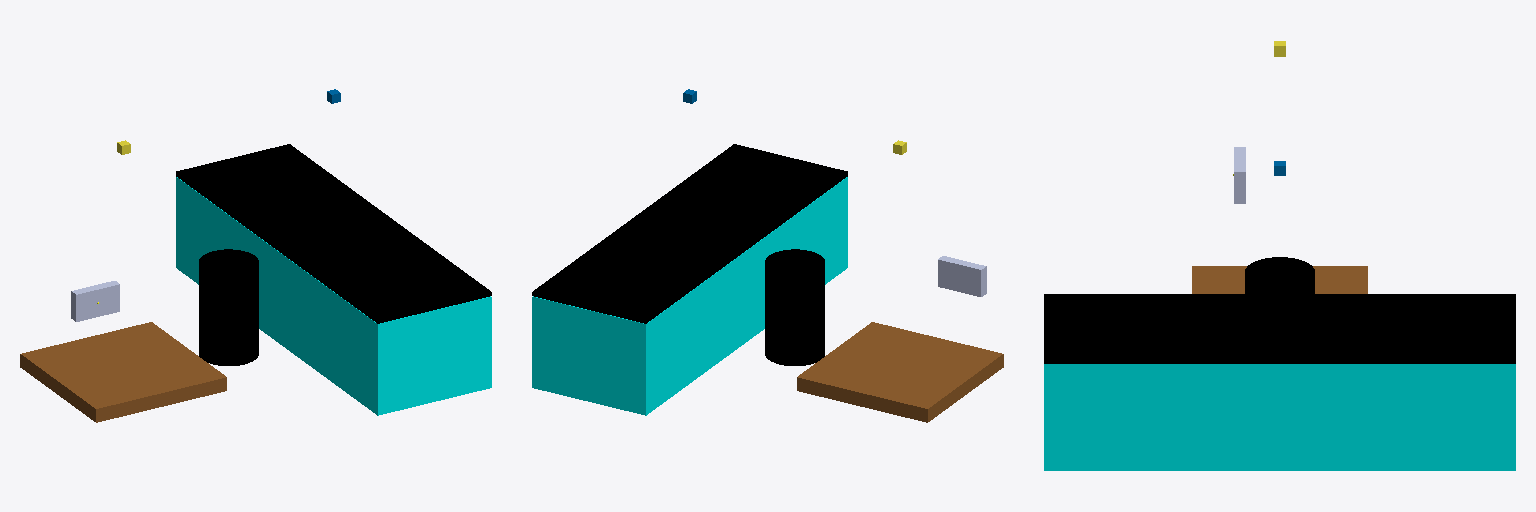
robot.urdf — fairino20_v6_robot:
<?xml version="1.0" encoding="utf-8"?>
<!-- This URDF was automatically created by SolidWorks to URDF Exporter! Originally created by Stephen Brawner (brawner@gmail.com) 
     Commit Version: 1.5.1-0-g916b5db  Build Version: 1.5.7152.31018
     For more information, please see http://wiki.ros.org/sw_urdf_exporter -->
<robot
  name="fairino20_v6_robot">
    <link name="world">
  </link>

    <link name="cylinder">
        <visual>
            <geometry>
                <cylinder radius="0.3" length="1.0"/>
            </geometry>
            <material name="black">
                <color rgba="0.0 0.0 0.0 1.0"/>
            </material>
        </visual>
        <collision>
            <geometry>
                <cylinder radius="0.3" length="1.0"/>
            </geometry>
        </collision>
        <inertial>
            <mass value="5.0"/>
            <origin xyz="0 0 0"/>
            <inertia ixx="0.1" ixy="0.0" ixz="0.0" iyy="0.1" iyz="0.0" izz="0.1"/>
        </inertial>
    </link>

    <joint name="world_to_cylinder" type="fixed">
        <parent link="world"/>
        <child link="cylinder"/>
        <origin xyz="0 0 0.5"/>
    </joint>


  <joint
    name="world_joint"
    type="fixed">
    <origin
      xyz="0 0 0.53"
      rpy="0 0 0" />
    <parent
      link="cylinder" />
    <child
      link="base_link" />
  </joint>

  <link
    name="base_link">
    <inertial>
      <origin
        xyz="-2.1681E-05 -6.0648E-05 0.043457"
        rpy="0 0 0" />
      <mass
        value="9.2502" />
      <inertia
        ixx="0.034499"
        ixy="1.6641E-05"
        ixz="-7.478E-06"
        iyy="0.034518"
        iyz="-2.0849E-05"
        izz="0.05496" />
    </inertial>
    <visual>
      <origin
        xyz="0 0 0"
        rpy="0 0 0" />
      <geometry>
        <mesh
          filename="file:///home/cyberai/ros_ws_new/src-20250225T070255Z-001/src/fr5v6_gazebo/meshes/fairino20_v6/base_link.STL" />
      </geometry>
      <material
        name="">
        <color
          rgba="0.89804 0.91765 0.92941 1" />
      </material>
    </visual>
    <collision>
      <origin
        xyz="0 0 0"
        rpy="0 0 0" />
      <geometry>
        <mesh
          filename="file:///home/cyberai/ros_ws_new/src-20250225T070255Z-001/src/fr5v6_gazebo/meshes/fairino20_v6/base_link.STL" />
      </geometry>
    </collision>
  </link>
  <link
    name="shoulder_link">
    <inertial>
      <origin
        xyz="3.9254E-07 -0.010323 0.21287"
        rpy="0 0 0" />
      <mass
        value="19.459" />
      <inertia
        ixx="0.1323"
        ixy="1.0103E-06"
        ixz="-5.944E-07"
        iyy="0.12371"
        iyz="0.00042374"
        izz="0.10228" />
    </inertial>
    <visual>
      <origin
        xyz="0 0 0"
        rpy="0 0 0" />
      <geometry>
        <mesh
          filename="file:///home/cyberai/ros_ws_new/src-20250225T070255Z-001/src/fr5v6_gazebo/meshes/fairino20_v6/shoulder_link.STL" />
      </geometry>
      <material
        name="">
        <color
          rgba="0.89804 0.91765 0.92941 1" />
      </material>
    </visual>
    <collision>
      <origin
        xyz="0 0 0"
        rpy="0 0 0" />
      <geometry>
        <mesh
          filename="file:///home/cyberai/ros_ws_new/src-20250225T070255Z-001/src/fr5v6_gazebo/meshes/fairino20_v6/shoulder_link.STL" />
      </geometry>
    </collision>
  </link>
  <joint
    name="j1"
    type="revolute">
    <origin
      xyz="0 0 0"
      rpy="0 0 0" />
    <parent
      link="base_link" />
    <child
      link="shoulder_link" />
    <axis
      xyz="0 0 1" />
    <limit
      lower="-3.0543"
      upper="3.0543"
      effort="150"
      velocity="3.15" />
    <calibration
      rising="0"
      falling="0" />
    <dynamics
      damping="0"
      friction="0" />
    <safety_controller
      soft_upper_limit="3.0543261"
      soft_lower_limit="-3.0543261"
      k_position="100.0"
      k_velocity="40.0" />
  </joint>
  <link
    name="upperarm_link">
    <inertial>
      <origin
        xyz="-0.42217 4.2066E-06 0.22678"
        rpy="0 0 0" />
      <mass
        value="66.724" />
      <inertia
        ixx="0.2685"
        ixy="4.4967E-05"
        ixz="-0.0061696"
        iyy="8.9785"
        iyz="-8.1844E-06"
        izz="8.9379" />
    </inertial>
    <visual>
      <origin
        xyz="0 0 0"
        rpy="0 0 0" />
      <geometry>
        <mesh
          filename="file:///home/cyberai/ros_ws_new/src-20250225T070255Z-001/src/fr5v6_gazebo/meshes/fairino20_v6/upperarm_link.STL" />
      </geometry>
      <material
        name="">
        <color
          rgba="0.89804 0.91765 0.92941 1" />
      </material>
    </visual>
    <collision>
      <origin
        xyz="0 0 0"
        rpy="0 0 0" />
      <geometry>
        <mesh
          filename="file:///home/cyberai/ros_ws_new/src-20250225T070255Z-001/src/fr5v6_gazebo/meshes/fairino20_v6/upperarm_link.STL" />
      </geometry>
    </collision>
  </link>
  <joint
    name="j2"
    type="revolute">
    <origin
      xyz="0 0 0.215"
      rpy="1.5708 0 0" />
    <parent
      link="shoulder_link" />
    <child
      link="upperarm_link" />
    <axis
      xyz="0 0 1" />
    <limit
      lower="-4.6251"
      upper="1.4835"
      effort="150"
      velocity="3.15" />
    <calibration
      rising="0"
      falling="0" />
    <dynamics
      damping="0"
      friction="0" />
    <safety_controller
      soft_upper_limit="3.0543261"
      soft_lower_limit="-3.0543261"
      k_position="100.0"
      k_velocity="40.0" />
  </joint>
  <link
    name="forearm_link">
    <inertial>
      <origin
        xyz="-0.32102 1.1013E-06 0.036086"
        rpy="0 0 0" />
      <mass
        value="27.942" />
      <inertia
        ixx="0.067382"
        ixy="3.8412E-06"
        ixz="-0.060027"
        iyy="1.8359"
        iyz="1.1904E-06"
        izz="1.8258" />
    </inertial>
    <visual>
      <origin
        xyz="0 0 0"
        rpy="0 0 0" />
      <geometry>
        <mesh
          filename="file:///home/cyberai/ros_ws_new/src-20250225T070255Z-001/src/fr5v6_gazebo/meshes/fairino20_v6/forearm_link.STL" />
      </geometry>
      <material
        name="">
        <color
          rgba="0.89804 0.91765 0.92941 1" />
      </material>
    </visual>
    <collision>
      <origin
        xyz="0 0 0"
        rpy="0 0 0" />
      <geometry>
        <mesh
          filename="file:///home/cyberai/ros_ws_new/src-20250225T070255Z-001/src/fr5v6_gazebo/meshes/fairino20_v6/forearm_link.STL" />
      </geometry>
    </collision>
  </link>
  <joint
    name="j3"
    type="revolute">
    <origin
      xyz="-1 0 0"
      rpy="0 0 0" />
    <parent
      link="upperarm_link" />
    <child
      link="forearm_link" />
    <axis
      xyz="0 0 1" />
    <limit
      lower="-2.8274"
      upper="2.8274"
      effort="150"
      velocity="3.15" />
    <calibration
      rising="0"
      falling="0" />
    <dynamics
      damping="0"
      friction="0" />
    <safety_controller
      soft_upper_limit="3.0543261"
      soft_lower_limit="-3.0543261"
      k_position="100.0"
      k_velocity="40.0" />
  </joint>
  <link
    name="wrist1_link">
    <inertial>
      <origin
        xyz="-1.4575E-06 -0.0065782 0.16163"
        rpy="0 0 0" />
      <mass
        value="4.0932" />
      <inertia
        ixx="0.0093111"
        ixy="7.0183E-08"
        ixz="-1.2872E-07"
        iyy="0.0077482"
        iyz="0.00014273"
        izz="0.0089925" />
    </inertial>
    <visual>
      <origin
        xyz="0 0 0"
        rpy="0 0 0" />
      <geometry>
        <mesh
          filename="file:///home/cyberai/ros_ws_new/src-20250225T070255Z-001/src/fr5v6_gazebo/meshes/fairino20_v6/wrist1_link.STL" />
      </geometry>
      <material
        name="">
        <color
          rgba="0.89804 0.91765 0.92941 1" />
      </material>
    </visual>
    <collision>
      <origin
        xyz="0 0 0"
        rpy="0 0 0" />
      <geometry>
        <mesh
          filename="file:///home/cyberai/ros_ws_new/src-20250225T070255Z-001/src/fr5v6_gazebo/meshes/fairino20_v6/wrist1_link.STL" />
      </geometry>
    </collision>
  </link>
  <joint
    name="j4"
    type="revolute">
    <origin
      xyz="-0.716 0 0"
      rpy="0 0 0" />
    <parent
      link="forearm_link" />
    <child
      link="wrist1_link" />
    <axis
      xyz="0 0 1" />
    <limit
      lower="-4.6251"
      upper="1.4835"
      effort="28"
      velocity="3.2" />
    <calibration
      rising="0"
      falling="0" />
    <dynamics
      damping="0"
      friction="0" />
    <safety_controller
      soft_upper_limit="3.0543261"
      soft_lower_limit="-3.0543261"
      k_position="100.0"
      k_velocity="40.0" />
  </joint>
  <link
    name="wrist2_link">
    <inertial>
      <origin
        xyz="1.1445E-07 0.0065785 0.13363"
        rpy="0 0 0" />
      <mass
        value="4.0931" />
      <inertia
        ixx="0.0093111"
        ixy="3.2335E-09"
        ixz="-2.7278E-08"
        iyy="0.0077479"
        iyz="-0.00014267"
        izz="0.0089922" />
    </inertial>
    <visual>
      <origin
        xyz="0 0 0"
        rpy="0 0 0" />
      <geometry>
        <mesh
          filename="file:///home/cyberai/ros_ws_new/src-20250225T070255Z-001/src/fr5v6_gazebo/meshes/fairino20_v6/wrist2_link.STL" />
      </geometry>
      <material
        name="">
        <color
          rgba="0.89804 0.91765 0.92941 1" />
      </material>
    </visual>
    <collision>
      <origin
        xyz="0 0 0"
        rpy="0 0 0" />
      <geometry>
        <mesh
          filename="file:///home/cyberai/ros_ws_new/src-20250225T070255Z-001/src/fr5v6_gazebo/meshes/fairino20_v6/wrist2_link.STL" />
      </geometry>
    </collision>
  </link>
  <joint
    name="j5"
    type="revolute">
    <origin
      xyz="0 0 0.16601"
      rpy="1.5708 0 0" />
    <parent
      link="wrist1_link" />
    <child
      link="wrist2_link" />
    <axis
      xyz="0 0 1" />
    <limit
      lower="-3.0543"
      upper="3.0543"
      effort="28"
      velocity="3.2" />
    <calibration
      rising="0"
      falling="0" />
    <dynamics
      damping="0"
      friction="0" />
    <safety_controller
      soft_upper_limit="3.0543261"
      soft_lower_limit="-3.0543261"
      k_position="100.0"
      k_velocity="40.0" />
  </joint>
  <link
    name="wrist3_link">
    <inertial>
      <origin
        xyz="-0.00011258 -0.00010438 0.095779"
        rpy="0 0 0" />
      <mass
        value="1.1151" />
      <inertia
        ixx="0.0010481"
        ixy="3.93E-10"
        ixz="8.9623E-09"
        iyy="0.001048"
        iyz="1.7247E-09"
        izz="0.0018226" />
    </inertial>
    <visual>
      <origin
        xyz="0 0 0"
        rpy="0 0 0" />
      <geometry>
        <mesh
          filename="file:///home/cyberai/ros_ws_new/src-20250225T070255Z-001/src/fr5v6_gazebo/meshes/fairino20_v6/wrist3_link.STL" />
      </geometry>
      <material
        name="">
        <color
          rgba="0.79216 0.81961 0.93333 1" />
      </material>
    </visual>
    <collision>
      <origin
        xyz="0 0 0"
        rpy="0 0 0" />
      <geometry>
        <mesh
          filename="file:///home/cyberai/ros_ws_new/src-20250225T070255Z-001/src/fr5v6_gazebo/meshes/fairino20_v6/wrist3_link.STL" />
      </geometry>
    </collision>
  </link>
  <joint
    name="j6"
    type="revolute">
    <origin
      xyz="0 0 0.138"
      rpy="-1.5708 0 0" />
    <parent
      link="wrist2_link" />
    <child
      link="wrist3_link" />
    <axis
      xyz="0 0 1" />
    <limit
      lower="-3.0543"
      upper="3.0543"
      effort="28"
      velocity="3.2" />
    <calibration
      rising="0"
      falling="0" />
    <dynamics
      damping="0"
      friction="0" />
    <safety_controller
      soft_upper_limit="3.0543261"
      soft_lower_limit="-3.0543261"
      k_position="100.0"
      k_velocity="40.0" />
  </joint>


  <link name="triangle">
      <!-- Visual Representation -->
      <visual>
          <geometry>
              <box size="0.5 0.3 0.103"/>
          </geometry>
          <material name="blue">
              <color rgba="0.79216 0.81961 0.93333 1"/>
          </material>
      </visual>
 <!--
      Collision Representation -->
      <collision>
          <geometry>
              <box size="0.5 0.3 0.103"/>
          </geometry>
      </collision>  
  </link>

    <!-- Joints -->
    <joint name="base_to_triangle" type="fixed">
        <parent link="wrist3_link"/>
        <child link="triangle"/>
        <origin xyz="0 0 0.17" rpy="0 0 0"/>
    </joint>

<link name="grasp_frame">
  <visual>
    <geometry>
      <sphere radius="0.01"/>  <!-- Small sphere to visualize the frame -->
    </geometry>
    <material name="yellow">
      <color rgba="1.0 1.0 0.0 1.0"/>  <!-- Yellow to make it visible -->
    </material>
  </visual>
</link>z

<joint name="grasp_frame_joint" type="fixed">
  <parent link="triangle"/>
  <child link="grasp_frame"/>
  <origin xyz="0 0 0.0515" rpy="0 0 0"/>  <!-- Adjust Z-axis to be between the fingers -->
</joint>



<link name="camera_link1">
  <inertial>
    <mass value="0.1"/>
    <origin xyz="0 0 0"/>
    <inertia ixx="0.01" ixy="0" ixz="0" iyy="0.01" iyz="0" izz="0.01"/>
  </inertial>
  <visual>
    <origin xyz="0 0 0" rpy="0 0 0"/>
    <geometry>
      <box size="0.1 0.1 0.1"/>
    </geometry>
  </visual>
  <collision>
    <origin xyz="0 0 0" rpy="0 0 0"/>
    <geometry>
      <box size="0.1 0.1 0.1"/>
    </geometry>
  </collision>
</link>


<!-- Static Joint -->
<joint name="camera_fixed_joint1" type="fixed">
  <parent link="base_link"/>
  <child link="camera_link1"/>
  <origin xyz="-1.2 0 1.5" rpy="0 1.57 0"/> <!-- Adjust position in the world -->
</joint>



<link name="camera_link2">
  <inertial>
    <mass value="0.1"/>
    <origin xyz="0 0 0"/>
    <inertia ixx="0.01" ixy="0" ixz="0" iyy="0.01" iyz="0" izz="0.01"/>
  </inertial>
  <visual>
    <origin xyz="0 0 0" rpy="0 0 0"/>
    <geometry>
      <box size="0.1 0.1 0.1"/>
    </geometry>
  </visual>
  <collision>
    <origin xyz="0 0 0" rpy="0 0 0"/>
    <geometry>
      <box size="0.1 0.1 0.1"/>
    </geometry>
  </collision>
</link>


<!-- Static Joint -->
<joint name="camera_fixed_joint2" type="fixed">
  <parent link="base_link"/>
  <child link="camera_link2"/>
  <origin xyz="1.2 0 1.5" rpy="0 3.14 0"/> <!-- Adjust position relative to base_link -->
</joint>

      <link name="pallet">
        <visual>
            <geometry>
                <box size="1.5 1.5 0.15"/>
            </geometry>
            <material name="wood">
                <color rgba="0.6 0.4 0.2 1.0"/>
            </material>
        </visual>
        <collision>
            <geometry>
                <box size="1.5 1.5 0.15"/>
            </geometry>
        </collision>
        <inertial>
            <mass value="10.0"/>
            <origin xyz="0 0 0"/>
            <inertia ixx="0.5" ixy="0.0" ixz="0.0" iyy="0.5" iyz="0.0" izz="0.5"/>
        </inertial>
    </link>

    <joint name="world_to_pallet" type="fixed">
        <parent link="world"/>
        <child link="pallet"/>
        <origin xyz="-1.2 0 0.075"/>
    </joint>


    <link name="conveyor_base">
        <visual>
            <geometry>
                <box size="1.3 4.0 1.0"/>
            </geometry>
            <material name="cyan">
                <color rgba="0.0 1.0 1.0 1.0"/>
            </material>
        </visual>
        <collision>
            <geometry>
                <box size="1.3 4.0 1.0"/>
            </geometry>
        </collision>
        <inertial>
            <mass value="50.0"/>
            <origin xyz="0 0 0"/>
            <inertia ixx="2.0" ixy="0.0" ixz="0.0" iyy="2.0" iyz="0.0" izz="2.0"/>
        </inertial>
    </link>

    <link name="conveyor_belt">
        <visual>
            <geometry>
                <box size="1.3 4.0 0.05"/>
            </geometry>
            <material name="black">
                <color rgba="0.0 0.0 0.0 1.0"/>
            </material>
        </visual>
        <collision>
            <geometry>
                <box size="1.3 4.0 0.05"/>
            </geometry>
        </collision>
        <inertial>
            <mass value="5.0"/>
            <origin xyz="0 0 0"/>
            <inertia ixx="0.5" ixy="0.0" ixz="0.0" iyy="0.5" iyz="0.0" izz="0.5"/>
        </inertial>
    </link>

    <joint name="world_to_conveyor" type="fixed">
        <parent link="world"/>
        <child link="conveyor_base"/>
        <origin xyz="1.2 0 0.5"/>
    </joint>

    <joint name="conveyor_base_to_belt" type="fixed">
        <parent link="conveyor_base"/>
        <child link="conveyor_belt"/>
        <origin xyz="0 0 0.529"/>
    </joint>


</robot>

--- Facts derived from the render (not from the file) ---
3 views of the same robot in one strip: view 1: azimuth 30°, elevation 25°; view 2: azimuth 150°, elevation 25°; view 3: azimuth 270°, elevation 25° (orthographic).
Model fairino20_v6_robot with 16 links and 15 joints (6 revolute, 9 fixed), rooted at world, posed all joints at 0.
Visible links, largest first — view 1: conveyor_base, conveyor_belt, pallet, cylinder, triangle; view 2: conveyor_base, conveyor_belt, pallet, cylinder, triangle; view 3: conveyor_base, conveyor_belt, pallet, cylinder, triangle.
Link boxes in pixels (bbox=[...]): conveyor_base: bbox=[176, 177, 491, 415]; conveyor_belt: bbox=[176, 144, 491, 323]; pallet: bbox=[20, 322, 226, 422]; cylinder: bbox=[199, 249, 258, 365]; triangle: bbox=[71, 281, 119, 321]; conveyor_base: bbox=[532, 177, 847, 415]; conveyor_belt: bbox=[532, 144, 847, 323]; pallet: bbox=[797, 322, 1003, 422]; cylinder: bbox=[765, 249, 824, 365]; triangle: bbox=[938, 256, 986, 296]; conveyor_base: bbox=[1044, 364, 1515, 470]; conveyor_belt: bbox=[1044, 294, 1515, 363]; pallet: bbox=[1192, 266, 1367, 293]; cylinder: bbox=[1245, 257, 1314, 293]; triangle: bbox=[1234, 147, 1245, 203].
Size in the robot's own frame: 3.82 by 4 by 2.58 metres.
Geometry: only primitive shapes (box / cylinder / sphere) drawn; not drawn: 7 mesh visuals (reference in a form the renderer does not follow).
